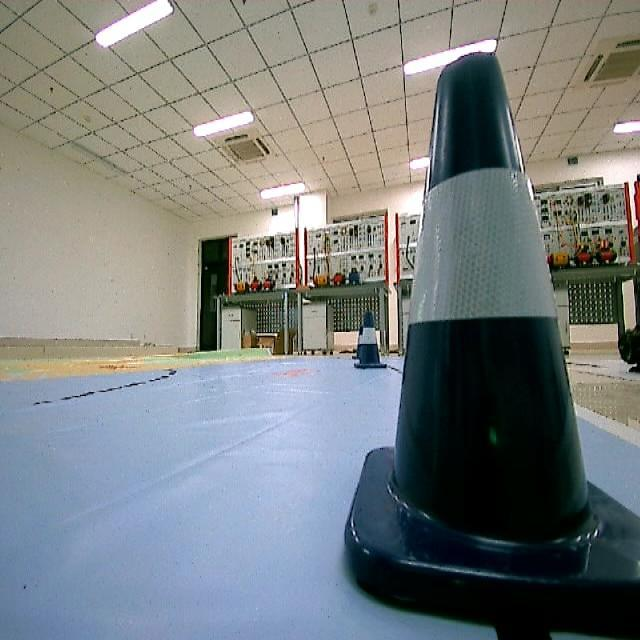obstacle: (346, 55, 640, 638), (350, 310, 393, 379)
